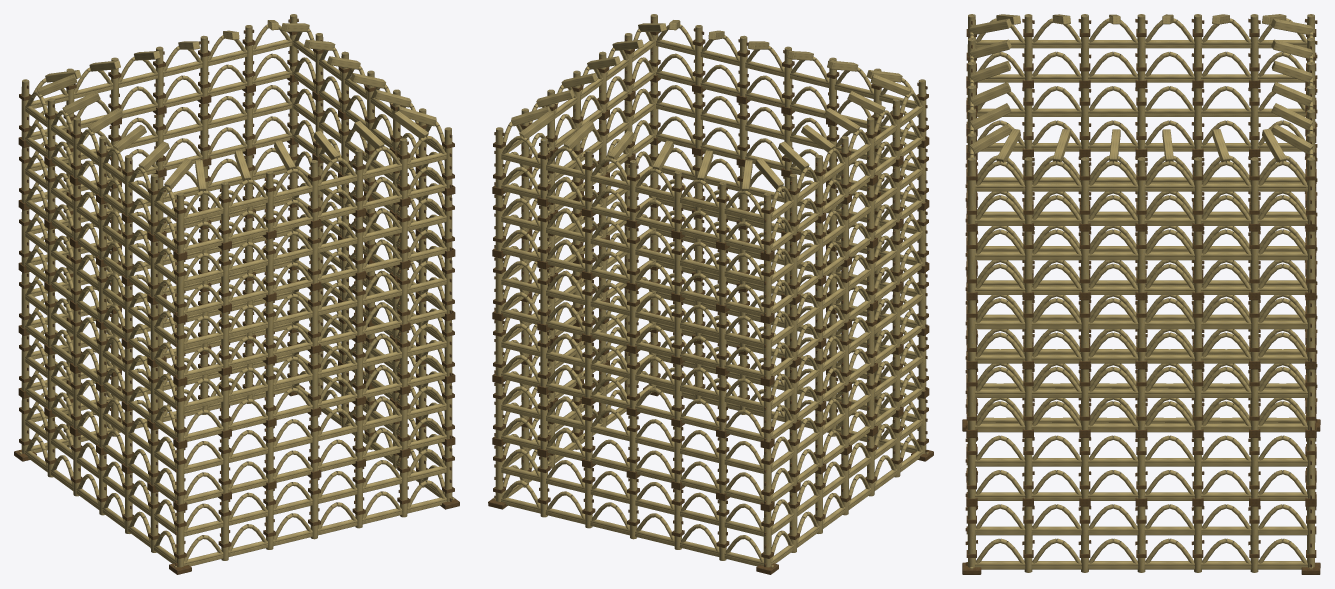
3 renders of one model, left to right at view 1: azimuth 30°, elevation 25°; view 2: azimuth 150°, elevation 25°; view 3: azimuth 270°, elevation 25°, orthographic. The views are drawn at different scales.
Visible parts, largest first — view 1: no part large enough to name; view 2: no part large enough to name; view 3: Tier 5 side 1 post 3, Tier 5 side 1 post 1, Tier 5 side 1 post 5, Tier 5 side 3 post 3, Tier 5 side 3 post 1, Tier 5 side 3 post 5, Tier 0 side 1 post 3, Tier 0 side 1 post 1, Tier 0 side 1 post 5, Crown petal 2-0, Tier 5 side 1 post 0, Crown petal 0-5 (+24 smaller).
Boxes of the visible parts, x1,y1,x2,y2 form: Tier 5 side 1 post 3: [1137, 157, 1145, 223]; Tier 5 side 1 post 1: [1024, 157, 1032, 223]; Tier 5 side 1 post 5: [1250, 157, 1258, 223]; Tier 5 side 3 post 3: [1137, 14, 1145, 80]; Tier 5 side 3 post 1: [1250, 14, 1258, 80]; Tier 5 side 3 post 5: [1024, 14, 1032, 80]; Tier 0 side 1 post 3: [1137, 506, 1145, 572]; Tier 0 side 1 post 1: [1024, 506, 1032, 572]; Tier 0 side 1 post 5: [1250, 506, 1258, 572]; Crown petal 2-0: [1271, 124, 1313, 153]; Tier 5 side 1 post 0: [967, 157, 975, 223]; Crown petal 0-5: [969, 124, 1011, 153].
Bounding box in the file's own units: 2.85 × 3.75 × 2.85.
Materials: 2 (2 with a texture image).
